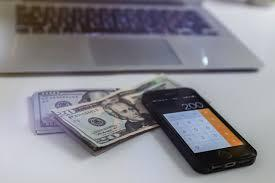Calculator: (155, 97, 248, 158)
